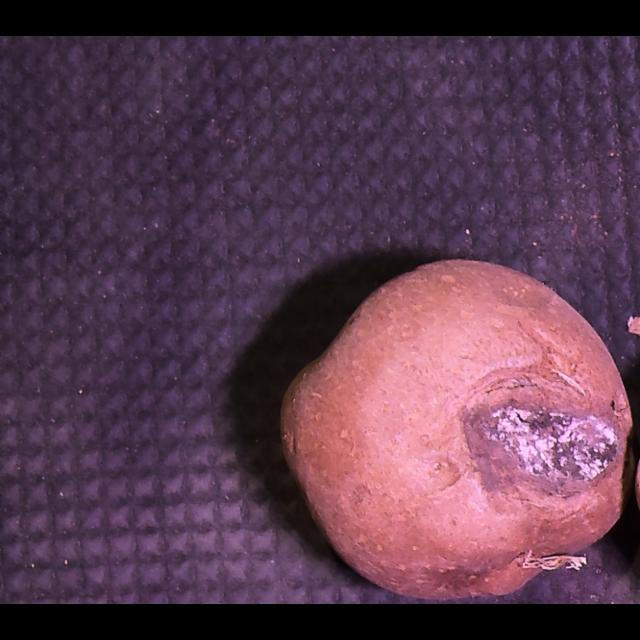Defected potato: (231, 222, 634, 604)
